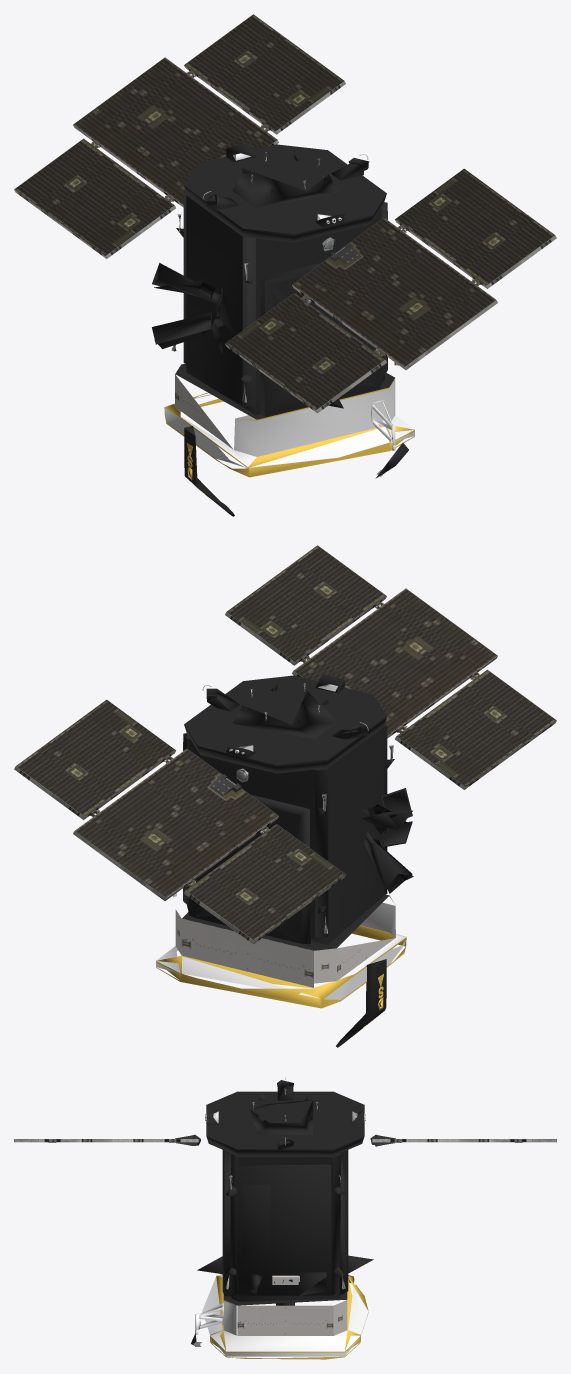
The model's file is cloudsat-c.glb.
3 renders of one model, top to bottom at view 1: azimuth 30°, elevation 25°; view 2: azimuth 150°, elevation 25°; view 3: azimuth 270°, elevation 25°, orthographic. The views are drawn at different scales.
Parts seen in each view (by area): view 1: shiny_panel, BUS, foil_silver, tex_01, foil_gold, metal; view 2: shiny_panel, BUS, tex_01, foil_silver, foil_gold, metal; view 3: BUS, tex_01, foil_silver, foil_gold, metal.
Boxes of the visible parts, box(x1,y1,x2,y2) form: shiny_panel: box(14, 14, 555, 410); BUS: box(152, 143, 408, 516); foil_silver: box(164, 153, 414, 467); tex_01: box(14, 65, 556, 449); foil_gold: box(164, 381, 414, 499); metal: box(171, 152, 398, 476); shiny_panel: box(15, 545, 556, 941); BUS: box(182, 674, 413, 1047); tex_01: box(14, 596, 556, 987); foil_silver: box(156, 684, 406, 999); foil_gold: box(156, 895, 406, 1027); metal: box(173, 683, 393, 933); BUS: box(191, 1080, 373, 1345); tex_01: box(14, 1139, 556, 1335); foil_silver: box(195, 1111, 365, 1356); foil_gold: box(210, 1275, 368, 1359); metal: box(175, 1088, 395, 1346).
Bounding box in the file's own units: 2.4 × 3.2 × 5.52.
Materials: 7 (4 with a texture image).
